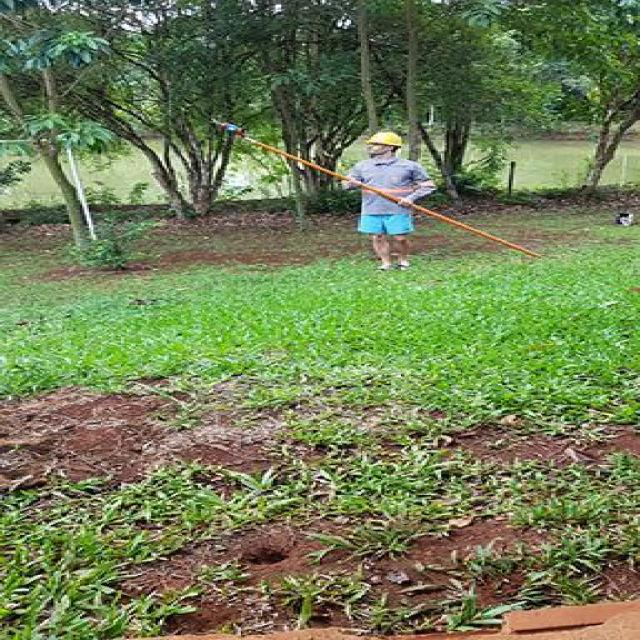hat: (362, 132, 402, 158)
